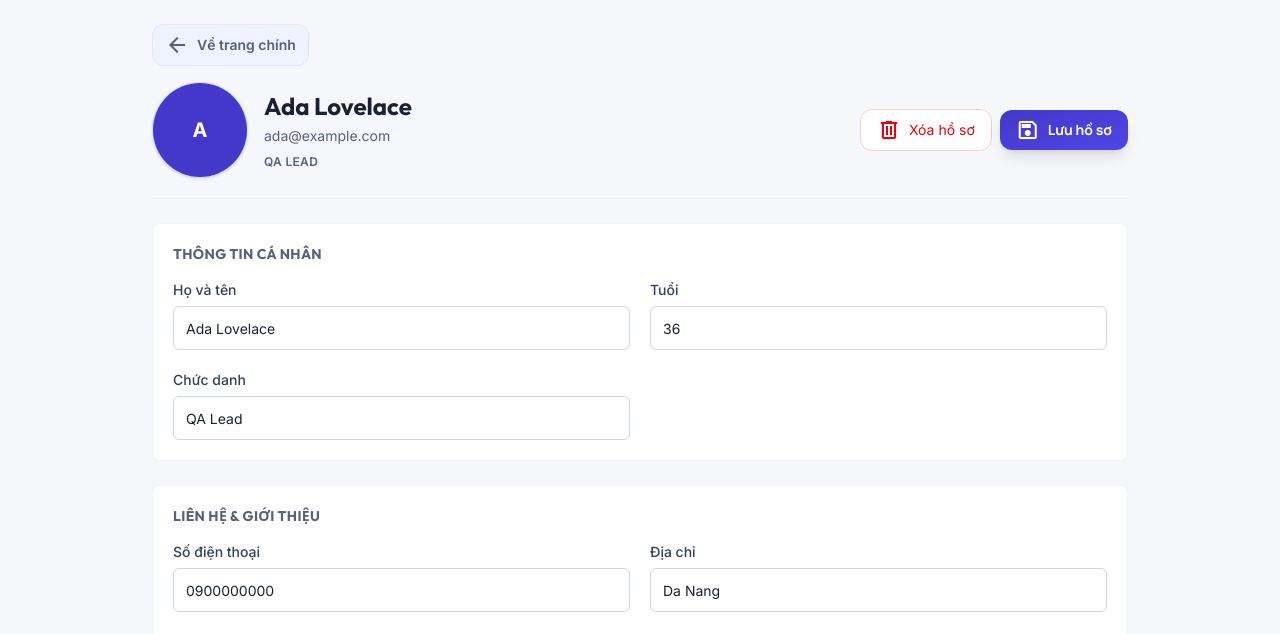
it: ProfilePage › requires danger confirmation before resetting extended profile data
Expected: the field showing "Ada Lovelace" is shown, [173,306,630,350]
Click the button "Xóa hồ sơ". click: (926, 130)
box: [860,109,992,151]
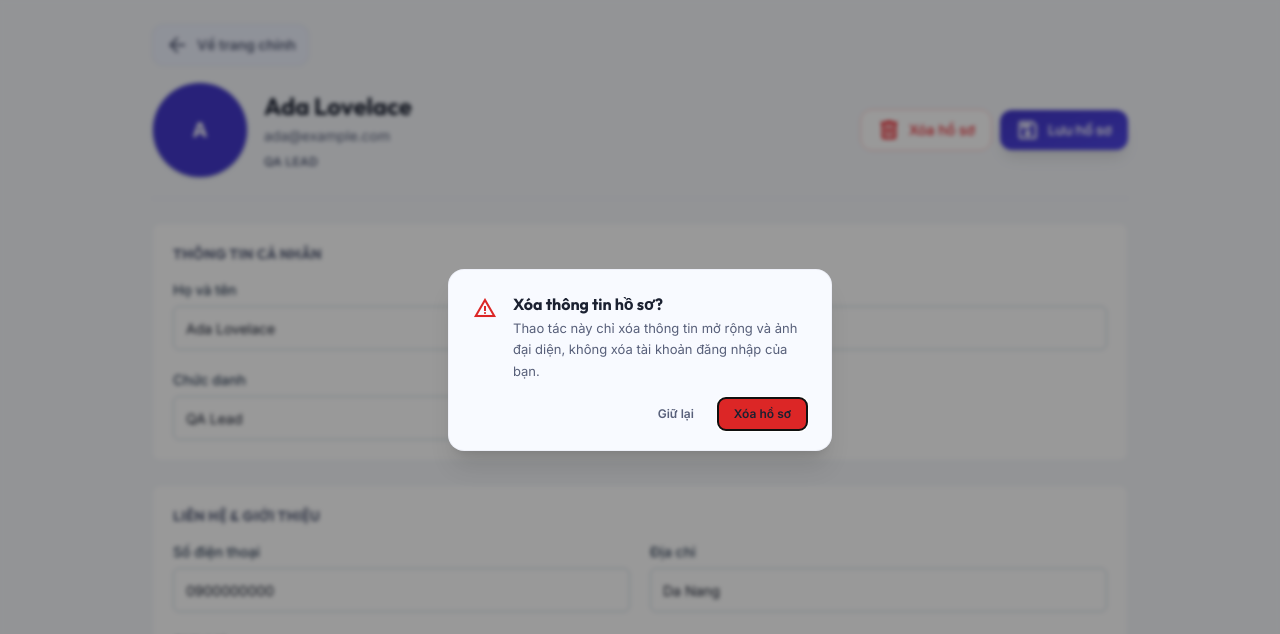
Expected: the heading "Xóa thông tin hồ sơ?" is shown, [513,294,663,314]
Expected: the text "không xóa tài khoản đăng nhập" is shown, [513,320,797,379]
Click the button "Xóa hồ sơ". click: (762, 414)
box: [718,398,807,430]
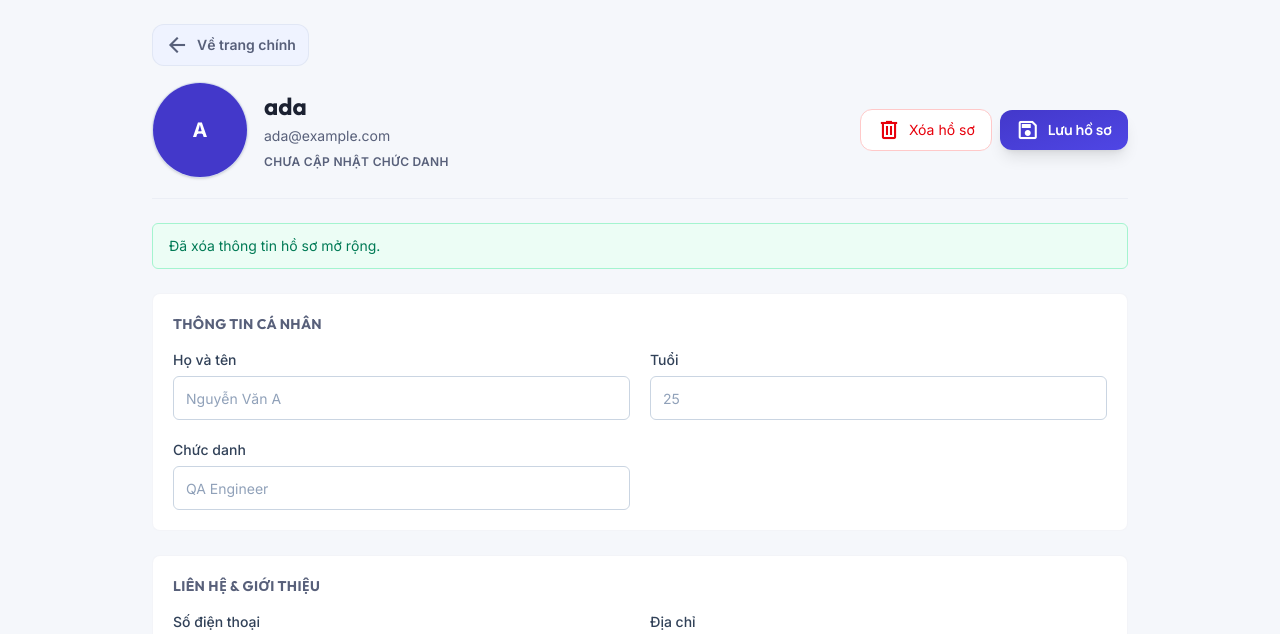
Expected: the text "Đã xóa thông tin hồ sơ mở rộng." is shown, [152,223,1128,269]
